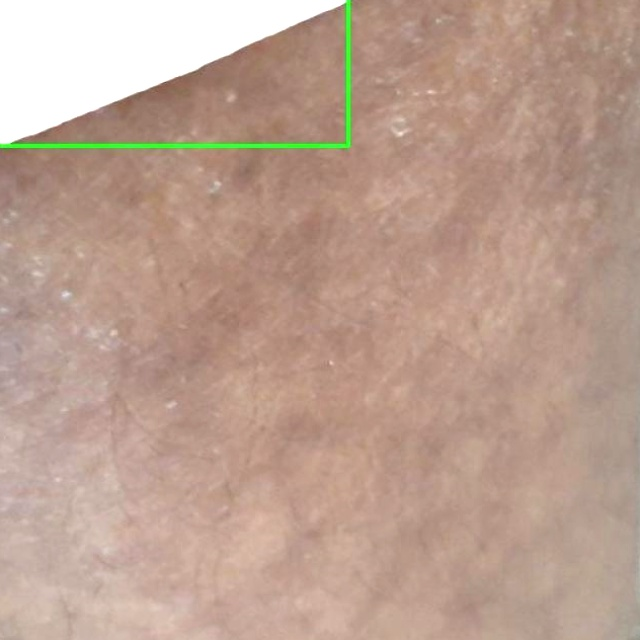Contact Dermatitis: (0, 0, 348, 145)
